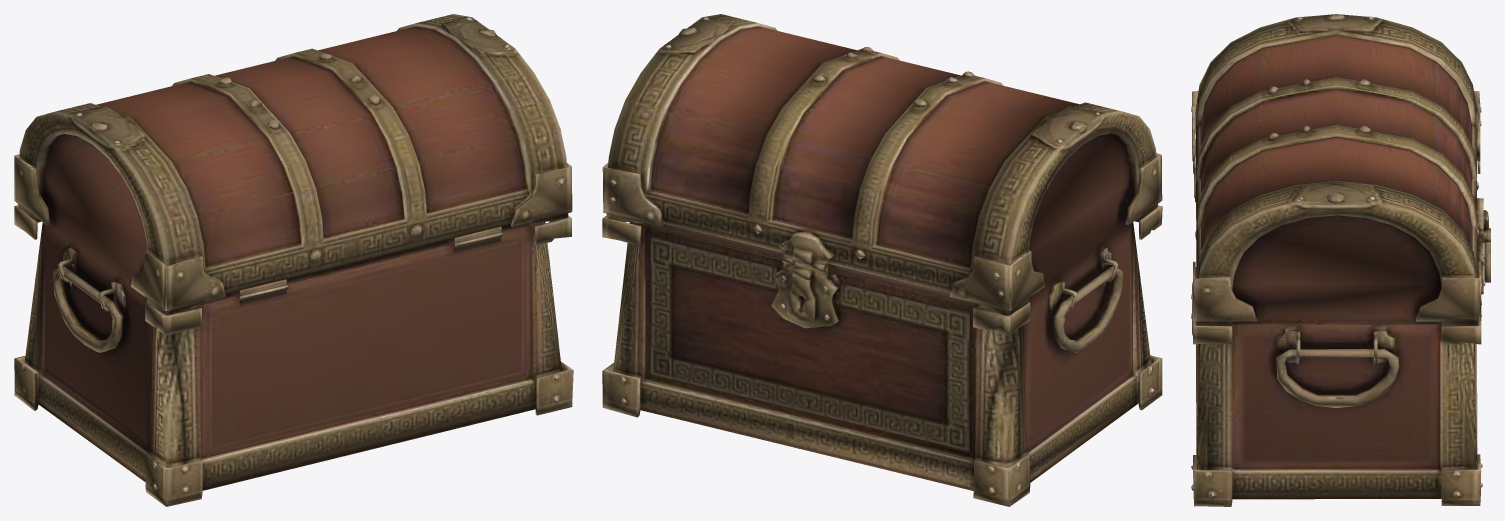
The model's file is treasure_chest.glb.
The picture shows the model from 3 angles, left to right: view 1: azimuth 30°, elevation 25°; view 2: azimuth 150°, elevation 25°; view 3: azimuth 270°, elevation 25°; orthographic projection. The views are drawn at different scales.
Visible parts, largest first — view 1: treasure_chest; view 2: treasure_chest; view 3: treasure_chest.
Part boxes in pixels (x1,y1,x2,y2): treasure_chest: (14, 14, 573, 506); treasure_chest: (602, 14, 1162, 506); treasure_chest: (1191, 14, 1490, 506).
Bounding box in the file's own units: 0.6889 × 0.5 × 0.4401.
Materials: 1 (1 with a texture image).
